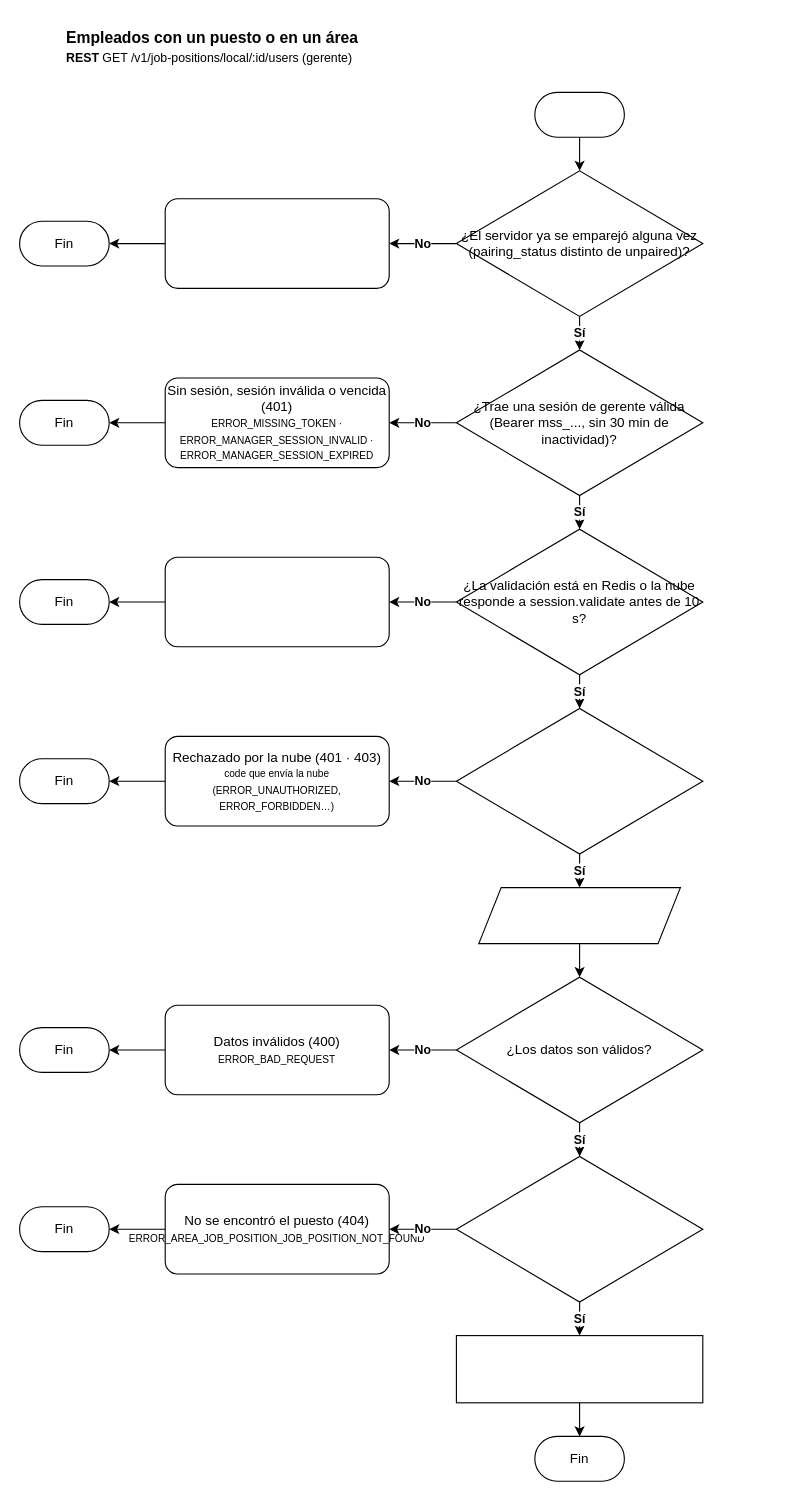
Image size: 801x1501. Some labels were removed from this diagram. The centre of each missing label's shape, as x and y in pixels:
"Inicio" belongs at point 579,114.
"La nube no responde (503) ERROR_CLOUD_UNAVAILABLE · ERROR_SERVER_UNLINKED" belongs at point 276,601.
"Recibir datos" belongs at point 579,915.
"Responder 200 con el mensaje USERS_RETRIEVED" belongs at point 579,1368.
"Servidor sin emparejar (409) ERROR_SERVER_NOT_PAIRED" belongs at point 276,243.
"¿Existe el puesto?" belongs at point 579,1228.
"¿La nube acepta la sesión del gerente con este servidor?" belongs at point 579,780.
